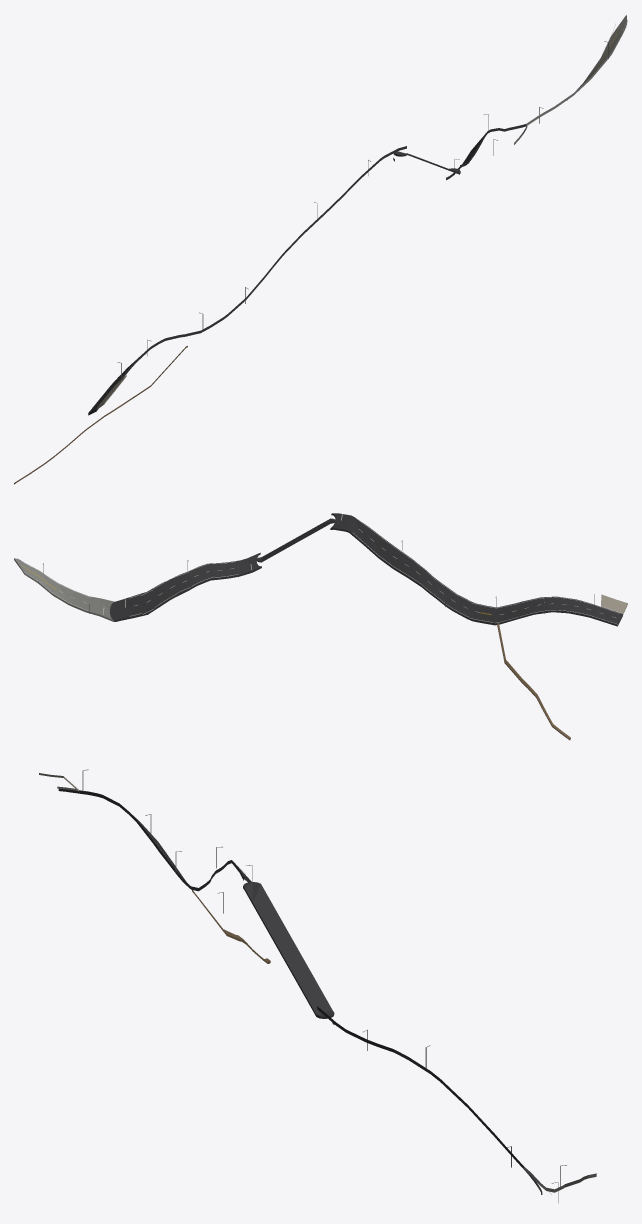
3 views of the same model, one above another, from view 1: azimuth 30°, elevation 25°; view 2: azimuth 150°, elevation 25°; view 3: azimuth 270°, elevation 25° (orthographic). The views are drawn at different scales.
Size of the model in its own units: 352 by 116 by 181.
